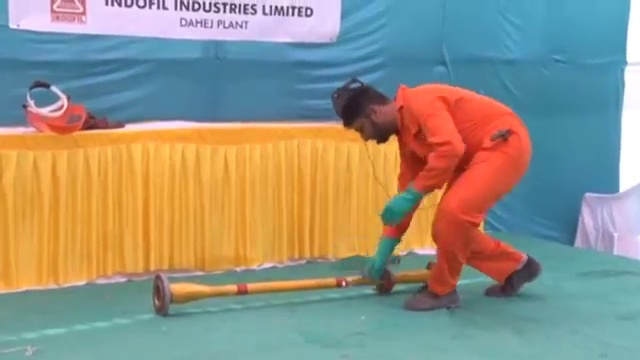helmet_off: (340, 85, 396, 146)
person: (336, 78, 541, 310)
